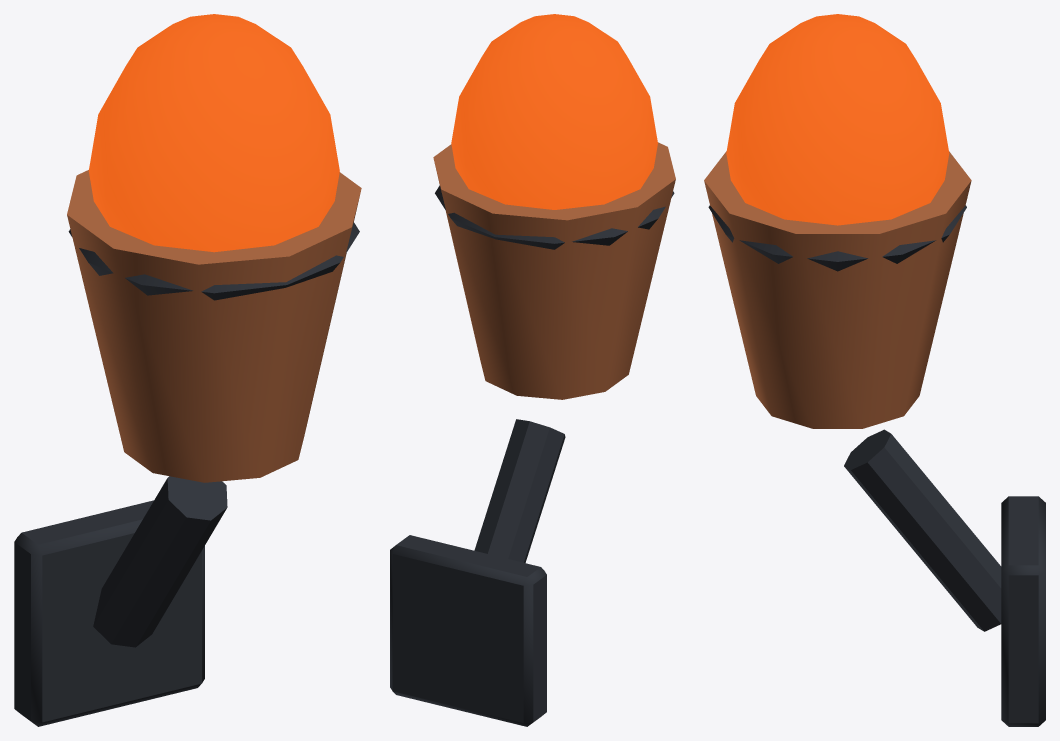
Rendered from sconce_energy_torch.glb.
3 views of the same model, side by side, from view 1: azimuth 30°, elevation 25°; view 2: azimuth 150°, elevation 25°; view 3: azimuth 270°, elevation 25° (orthographic). The views are drawn at different scales.
Visible parts, largest first — view 1: sconce_energy_torch; view 2: sconce_energy_torch; view 3: sconce_energy_torch.
Boxes of the visible parts, x1,y1,x2,y2 form: sconce_energy_torch: [14, 14, 361, 726]; sconce_energy_torch: [390, 14, 675, 726]; sconce_energy_torch: [704, 14, 1045, 726].
Size of the model in its own units: 0.174 by 0.4975 by 0.23.
